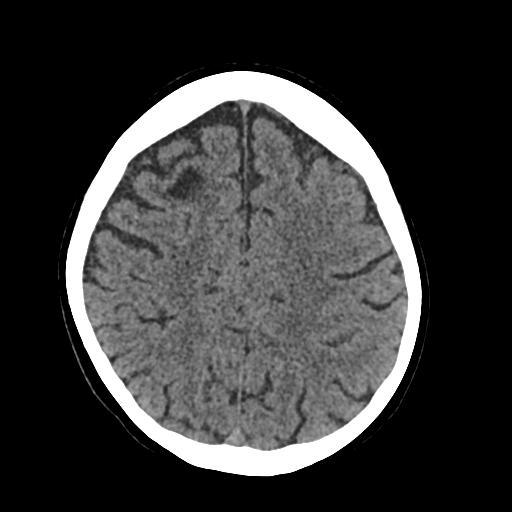Cancer: (160, 168, 205, 210)
